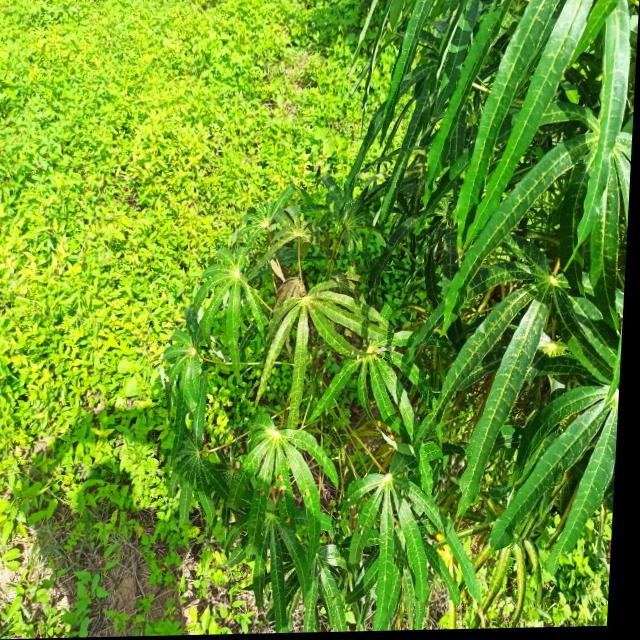Maleza: (0, 11, 163, 385), (0, 0, 349, 163), (0, 397, 178, 640), (51, 142, 240, 223)
Mosca: (277, 469, 290, 505), (344, 494, 358, 512), (357, 520, 369, 539), (230, 460, 243, 475), (254, 486, 269, 498), (281, 513, 291, 530), (302, 486, 312, 498)
